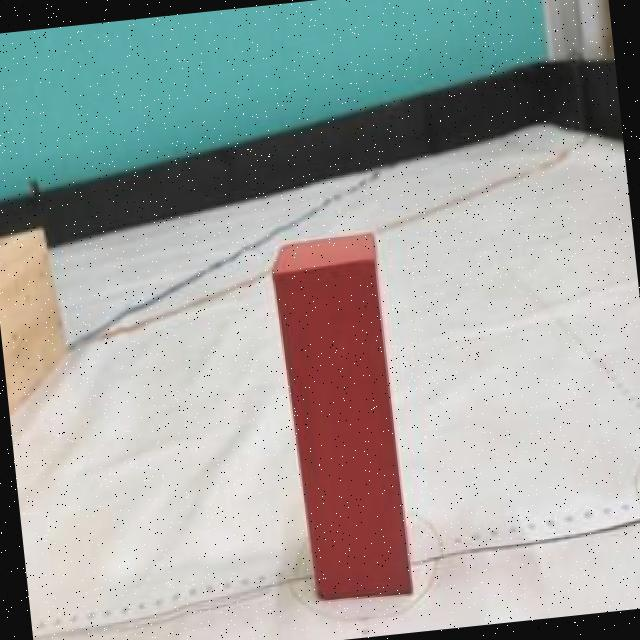redbox: (267, 231, 413, 606)
